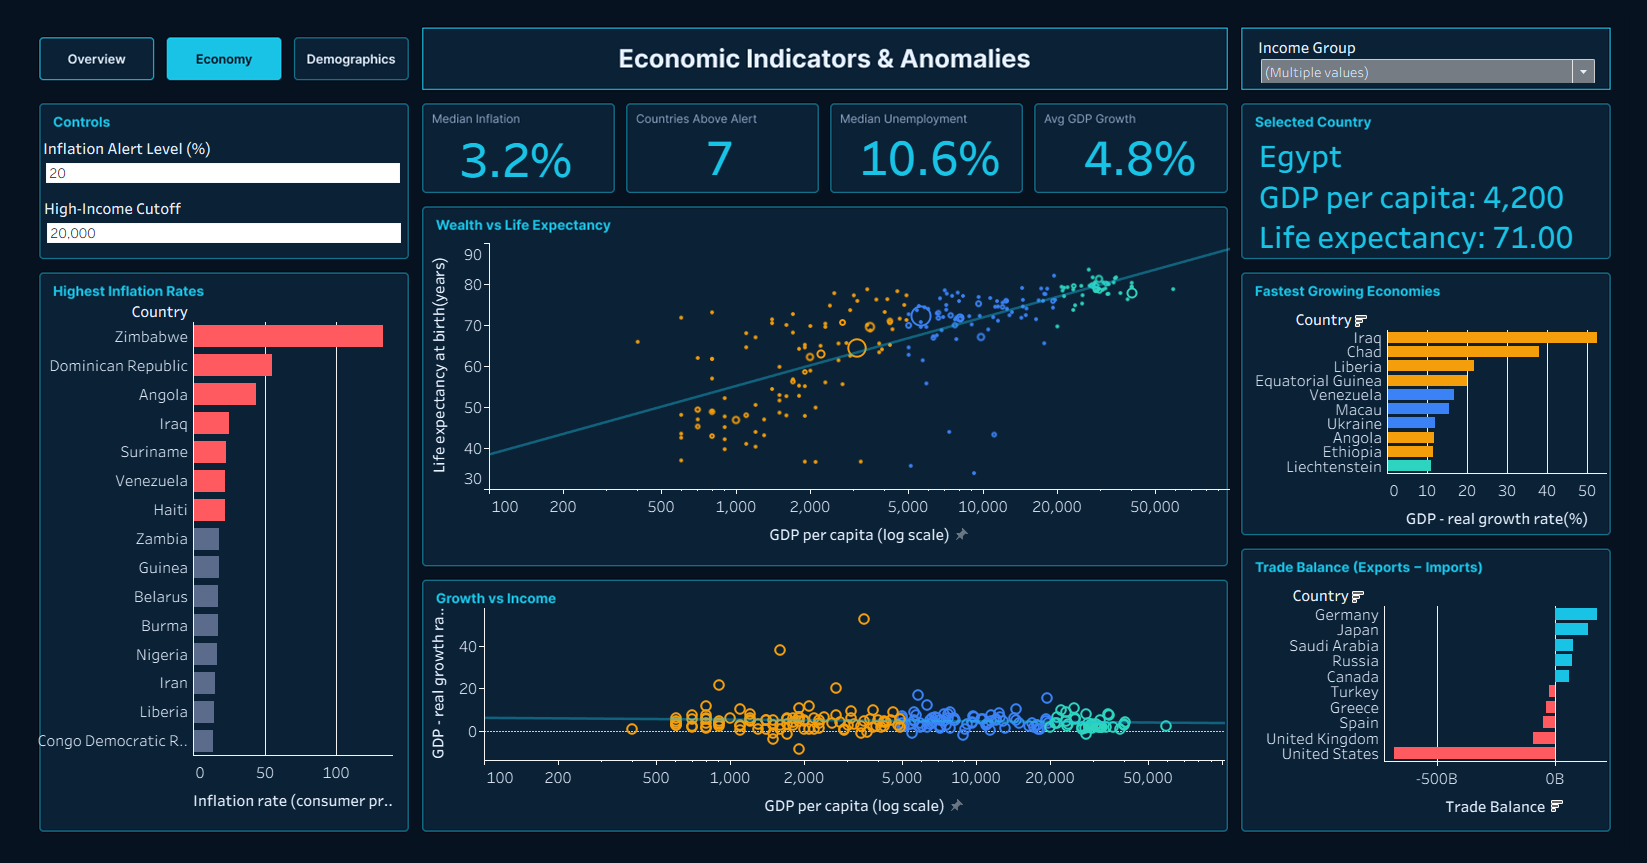

Layout of this report page (visuals, bound fields, positions):
{"tool":"tableau","page":{"name":"Dashboard 2","canvas":[1657,861],"ordinal":1},"visuals":[{"type":"image","param":"F:/DEPI/Mini Projects/Mini Project 3/D2 - Economy.png","box":[8,8,1641,845]},{"type":"filter","title":"Wealth vs Life Expectancy","param":"[federated.1wt7dck05r5s2l1c8t8xi11wyjcn].[none:Calculation_0835963271385095:nk]","box":[1261,35,340,46]},{"type":"dashboard-object","box":[160,45,117,45]},{"type":"dashboard-object","box":[30,48,117,45]},{"type":"dashboard-object","box":[290,48,117,45]},{"type":"worksheet","title":"KPI Above Alert","mark":"Automatic","box":[633,124,180,62]},{"type":"worksheet","title":"KPI Unemployment","mark":"Automatic","box":[843,124,180,62]},{"type":"worksheet","title":"KPI GDP Growth","mark":"Automatic","box":[1053,124,180,62]},{"type":"worksheet","title":"Selected Country","mark":"Automatic","box":[1225,124,399,139]},{"type":"worksheet","title":"KPI Inflation","mark":"Automatic","box":[429,126,180,62]},{"type":"parameter","param":"[Parameters].[Parameter 0835963270160388]","box":[46,136,360,55]},{"type":"parameter","param":"[Parameters].[Parameter 0835963269218306]","box":[47,196,360,55]},{"type":"worksheet","title":"Wealth vs Life Expectancy","mark":"Automatic","rows":["Life expectancy at birth(years)"],"cols":["GDP - per capita"],"box":[424,241,809,309]},{"type":"worksheet","title":"Anomalies","mark":"Automatic","rows":["Country"],"cols":["Inflation rate (consumer prices)(%)"],"box":[36,300,360,516]},{"type":"worksheet","title":"Fastest Growing","mark":"Automatic","rows":["Country"],"cols":["GDP - real growth rate(%)"],"box":[1250,308,360,226]},{"type":"worksheet","title":"Trade Balance Chart","mark":"Automatic","rows":["Country"],"cols":["Calculation_0835963272744972"],"box":[1267,584,343,238]},{"type":"worksheet","title":"Growth vs Income","mark":"Automatic","rows":["GDP - real growth rate(%)"],"cols":["GDP - per capita"],"box":[423,606,805,215]}]}

Visuals, with their boxes in screenshot pixels (x1, y1, x2, y2), scaled from the page's 1657x861 canvas onto the 1647x863 screenshot:
image: (8,8,1639,855)
"Wealth vs Life Expectancy" filter: (1253,35,1591,81)
dashboard-object: (159,45,275,90)
dashboard-object: (30,48,146,93)
dashboard-object: (288,48,405,93)
"KPI Above Alert" worksheet: (629,124,808,186)
"KPI Unemployment" worksheet: (838,124,1017,186)
"KPI GDP Growth" worksheet: (1047,124,1226,186)
"Selected Country" worksheet: (1218,124,1614,264)
"KPI Inflation" worksheet: (426,126,605,188)
parameter: (46,136,404,191)
parameter: (47,196,405,252)
"Wealth vs Life Expectancy" worksheet: (421,242,1226,551)
"Anomalies" worksheet: (36,301,394,818)
"Fastest Growing" worksheet: (1242,309,1600,535)
"Trade Balance Chart" worksheet: (1259,585,1600,824)
"Growth vs Income" worksheet: (420,607,1221,823)
